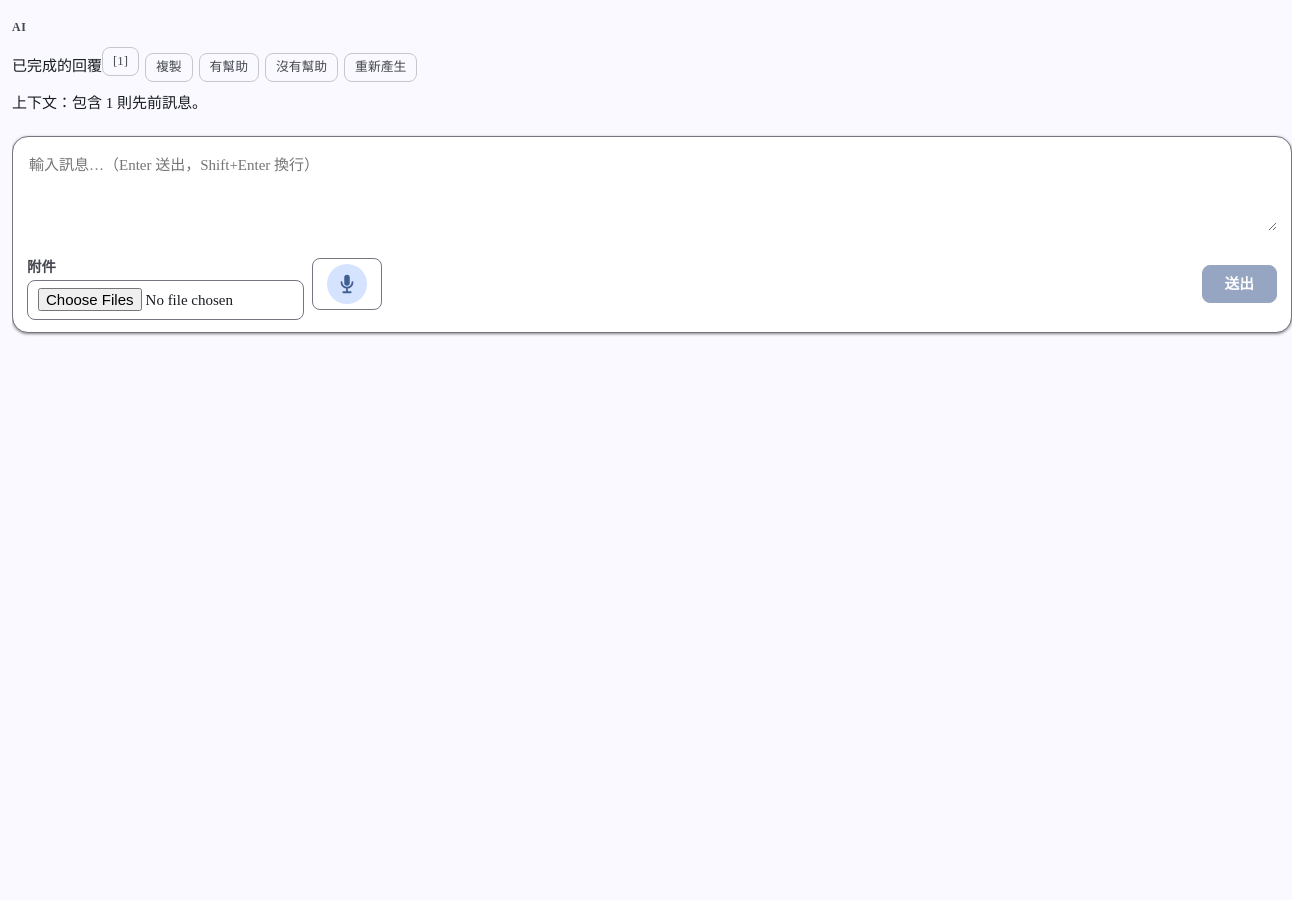
Test: MessageThread citation preview (E03-S014) › clicking a citation badge opens the preview drawer showing that citation's source
The width and height of the screenshot is (1292, 900).
Step 1. Click the button named "檢視引用來源 1" → (120, 61), box top-left (102, 46), bottom-right (139, 76)
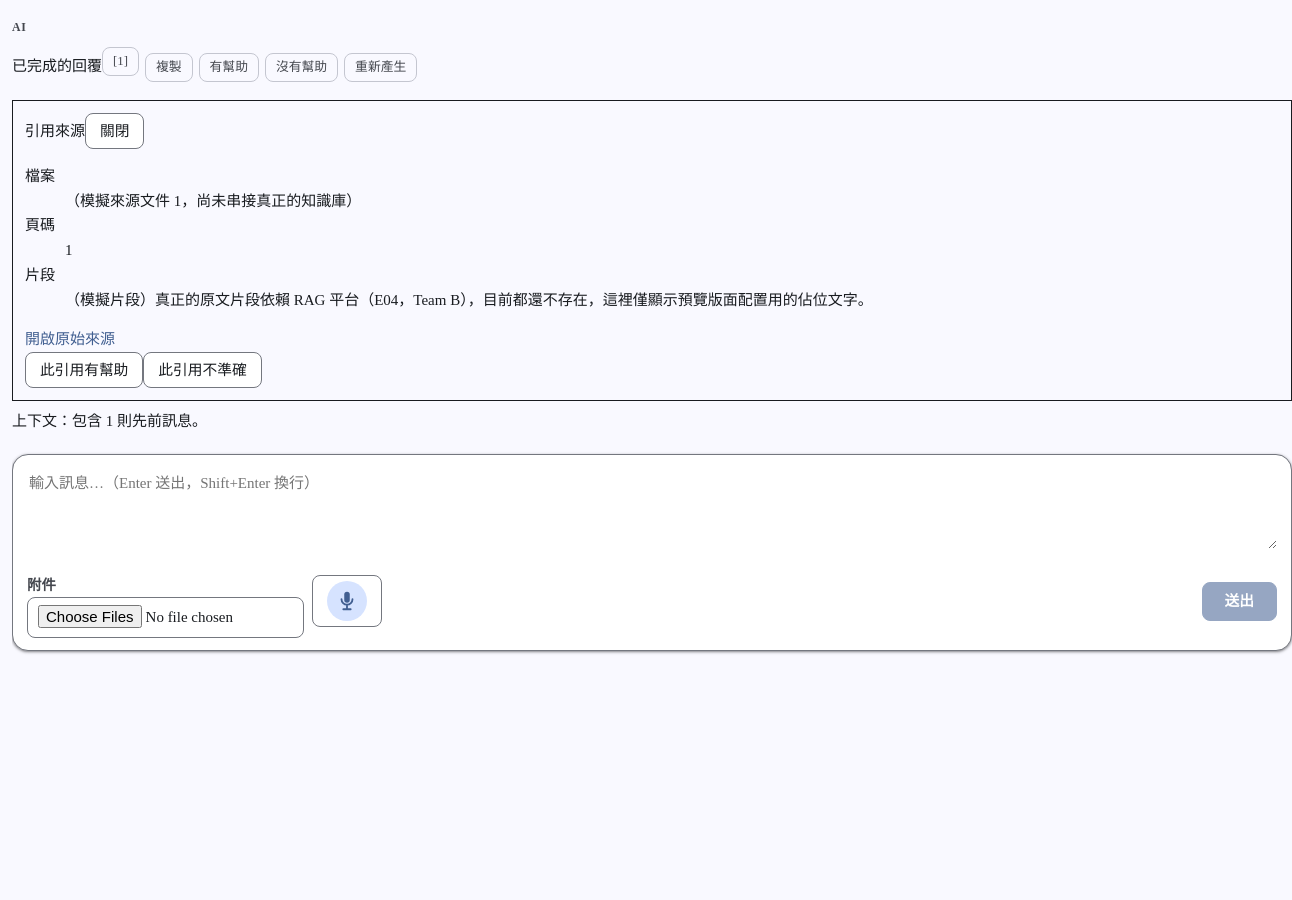
Now the element named "引用來源預覽" is shown, box top-left (12, 100), bottom-right (1291, 401)
Now the text "（模擬來源文件 1，尚未串接真正的知識庫）" is shown, box top-left (65, 193), bottom-right (361, 209)
